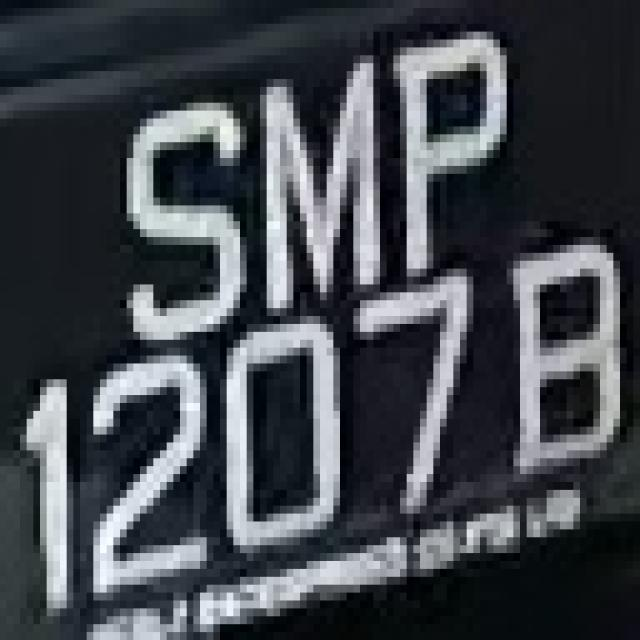0: (214, 308, 354, 561)
1: (0, 331, 93, 624)
2: (80, 340, 207, 600)
7: (313, 261, 500, 521)
B: (480, 237, 627, 474)
M: (240, 32, 380, 300)
P: (380, 16, 520, 261)
S: (113, 79, 247, 363)
